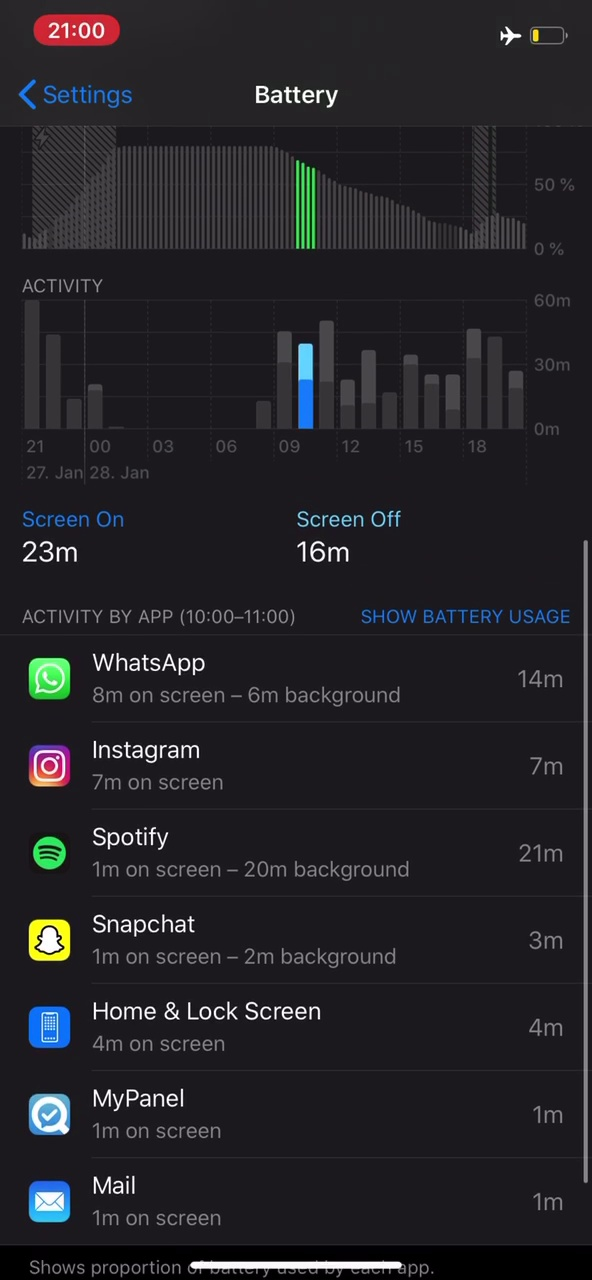activity: (7, 599, 304, 628)
app: (15, 646, 572, 716), (13, 732, 570, 802), (15, 816, 572, 886), (13, 908, 570, 978), (13, 996, 570, 1066), (11, 1078, 568, 1148), (13, 1168, 570, 1238)
